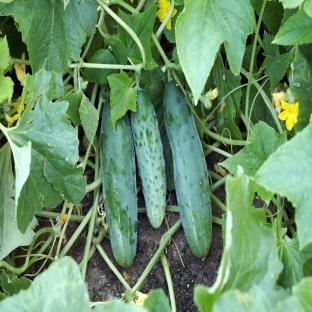Cucumber: (164, 81, 211, 257), (100, 97, 137, 267), (131, 89, 166, 228)
